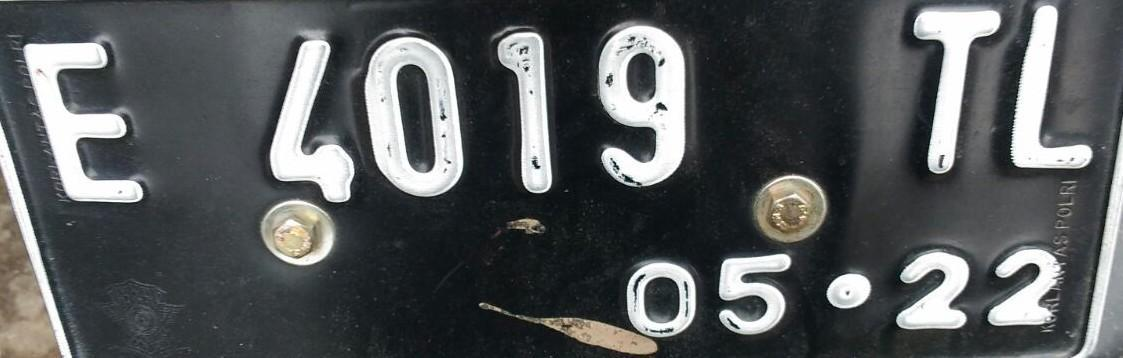0: (356, 29, 474, 203)
1: (478, 26, 582, 200)
4: (224, 29, 366, 206)
9: (572, 22, 706, 198)
E: (19, 25, 156, 223)
L: (1009, 3, 1104, 186)
T: (902, 1, 1004, 191)
